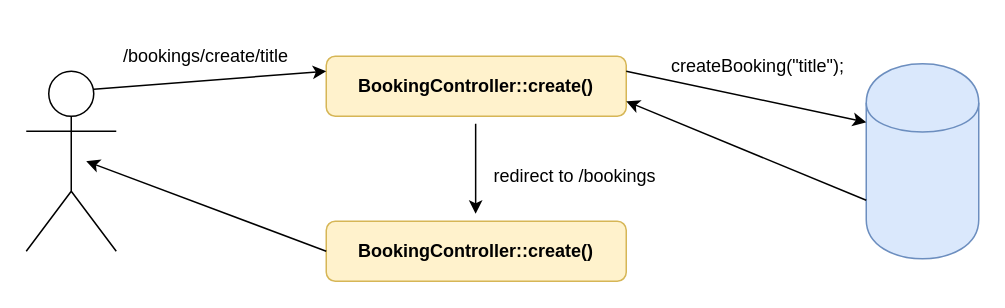
Image size: 1005x308. Some labels were removed from this diagram. The centre of each missing label's shape, as x and y in pixels:
Bookings: (922,160)
User: (70,160)
